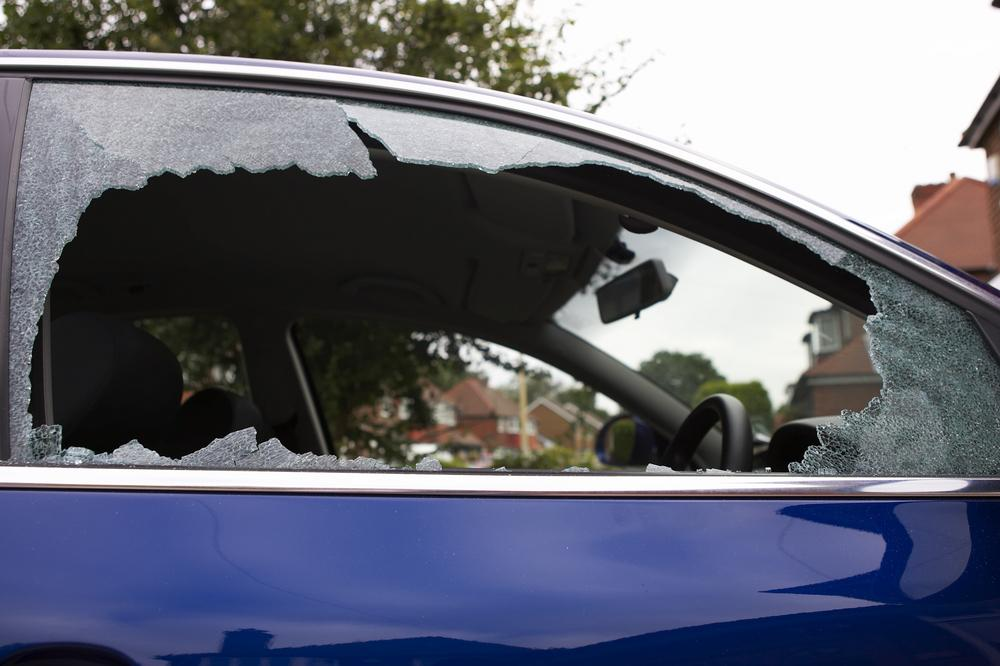glass shatter: (9, 82, 1000, 478)
